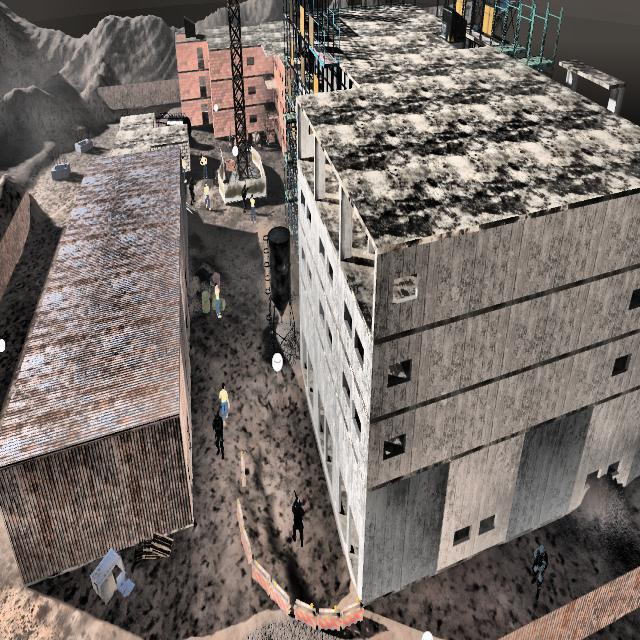bad: (523, 528, 552, 602), (288, 481, 308, 551), (212, 408, 227, 465), (187, 171, 198, 207), (239, 180, 249, 215)
good: (212, 273, 222, 327), (202, 183, 212, 213), (199, 148, 209, 178), (248, 193, 258, 223), (181, 152, 189, 183)
